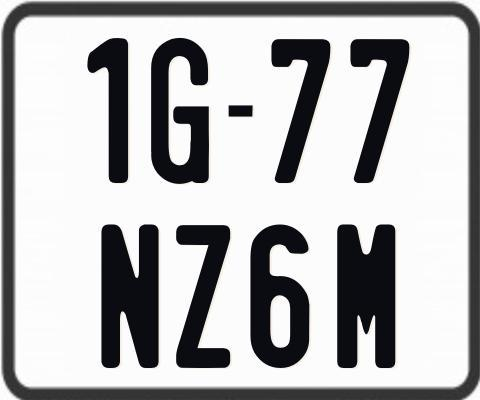1: (85, 38, 132, 183)
6: (247, 225, 307, 369)
7: (349, 39, 411, 188), (269, 37, 331, 183)
G: (150, 36, 213, 186)
M: (337, 223, 399, 372)
N: (100, 225, 159, 374)
Z: (174, 225, 229, 372)
